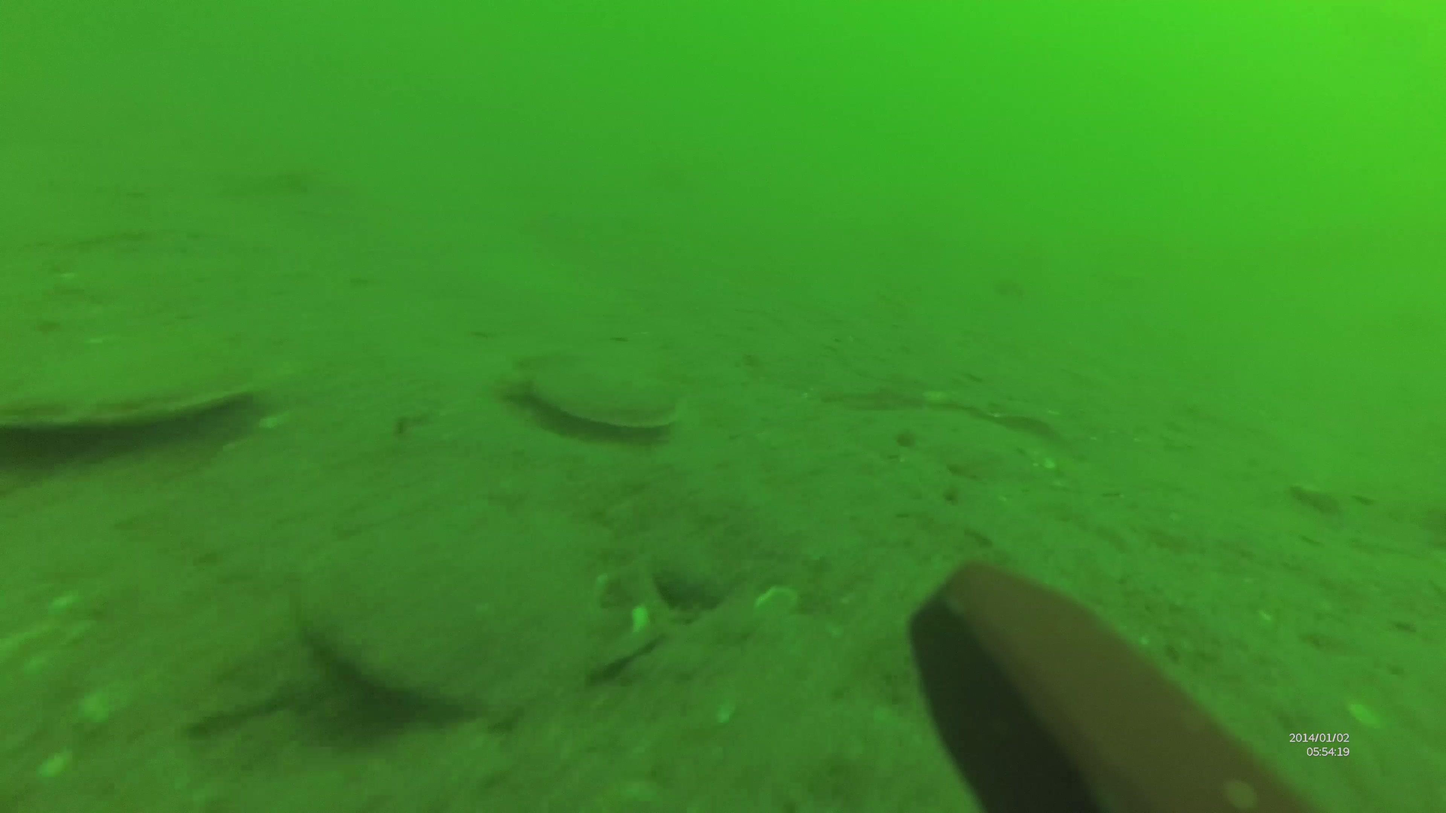scallop: (303, 490, 659, 713), (0, 353, 298, 452), (527, 352, 686, 441)
